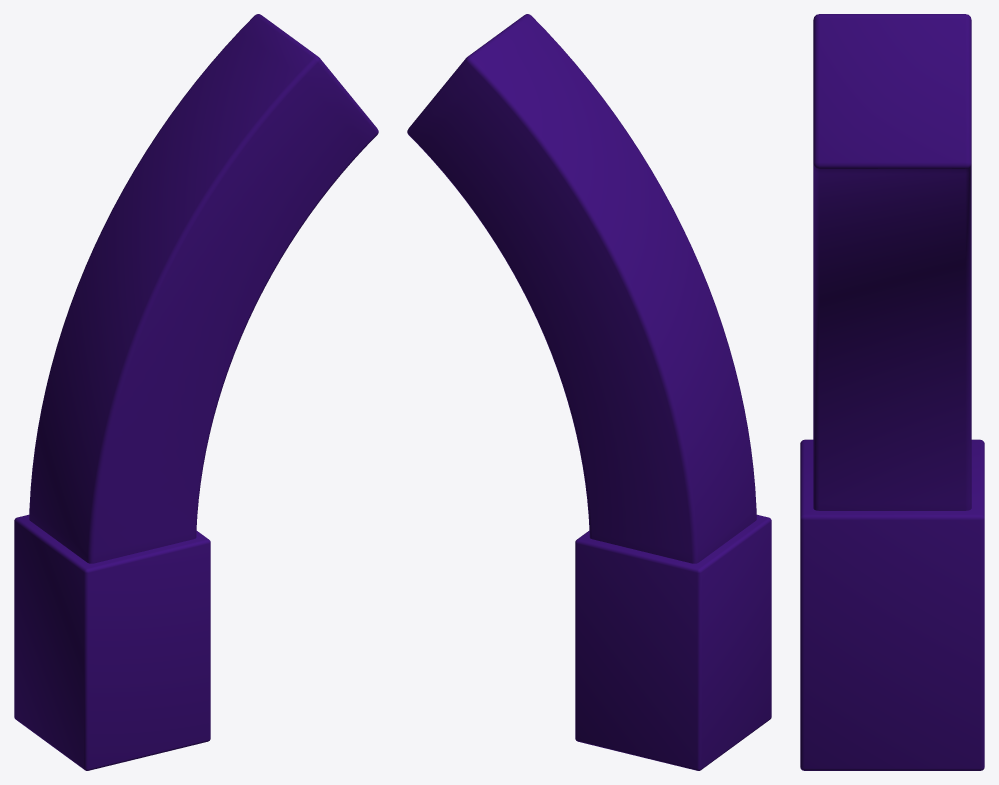
Rendered from Congtim.fbx.
The picture shows the model from 3 angles, left to right: view 1: azimuth 30°, elevation 25°; view 2: azimuth 150°, elevation 25°; view 3: azimuth 270°, elevation 25°; orthographic projection. The views are drawn at different scales.
Parts seen in each view (by area): view 1: ChamferBox002, ChamferBox001; view 2: ChamferBox002, ChamferBox001; view 3: ChamferBox002, ChamferBox001.
Boxes of the visible parts, bbox=[...] form: ChamferBox002: bbox=[29, 14, 378, 563]; ChamferBox001: bbox=[14, 514, 210, 770]; ChamferBox002: bbox=[407, 14, 756, 563]; ChamferBox001: bbox=[575, 514, 771, 770]; ChamferBox002: bbox=[813, 14, 971, 510]; ChamferBox001: bbox=[800, 439, 984, 770].
Bounding box in the file's own units: 6.99 × 14.54 × 2.94.
